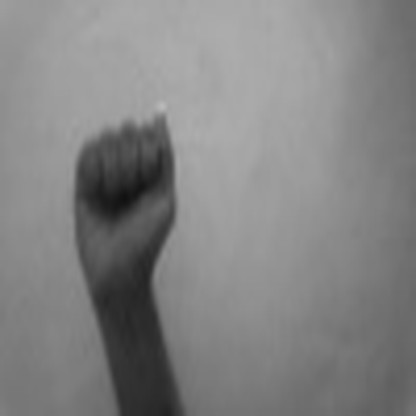a: (67, 106, 183, 306)
